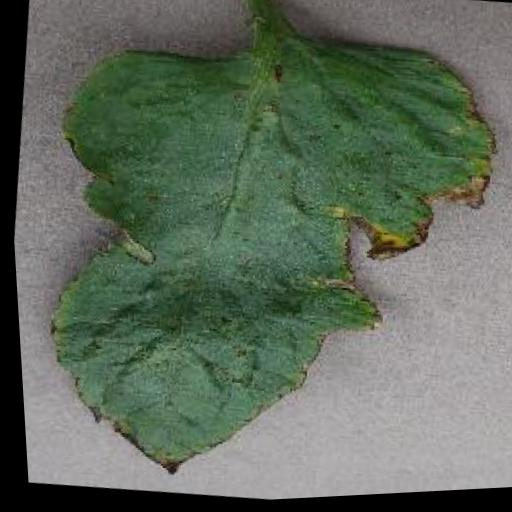Bacterial Spot: (9, 0, 512, 512)
